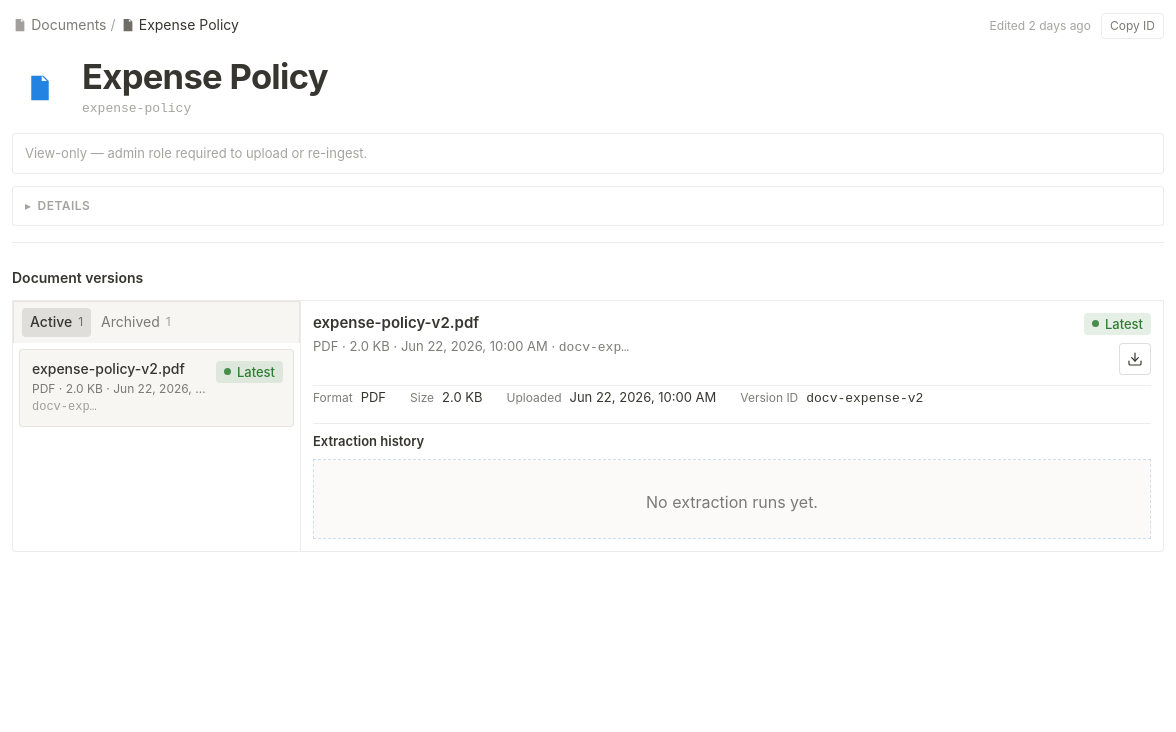
it: DocumentDetail › lists all document versions including archived uploads
Check: the text "docv-expense-v2" is shown, box [806,391,923,406]
Check: the 2nd text "expense-policy-v2.pdf" is shown, box [32,360,208,379]
Click the tab "Archived 1".
click(136, 322)  # box [93,308,179,337]
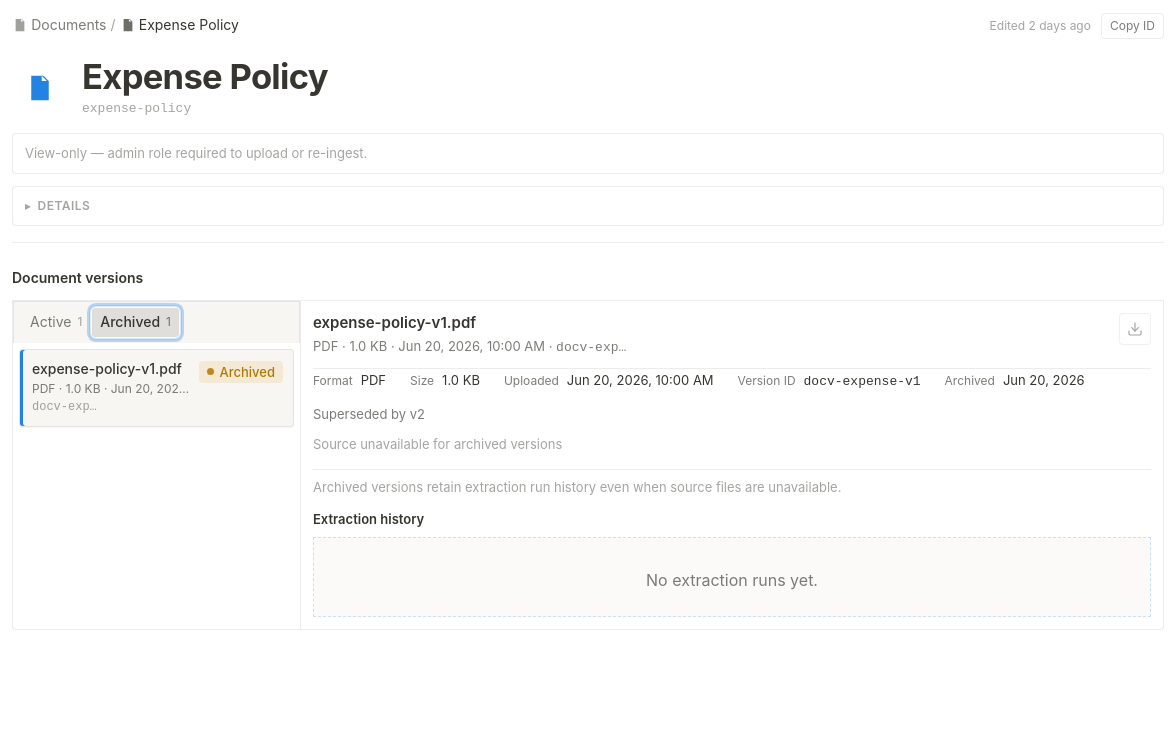
Check: the text "docv-expense-v1" is shown, box [804,374,921,389]
Check: the text "Superseded by v2" is shown, box [313,406,425,422]
